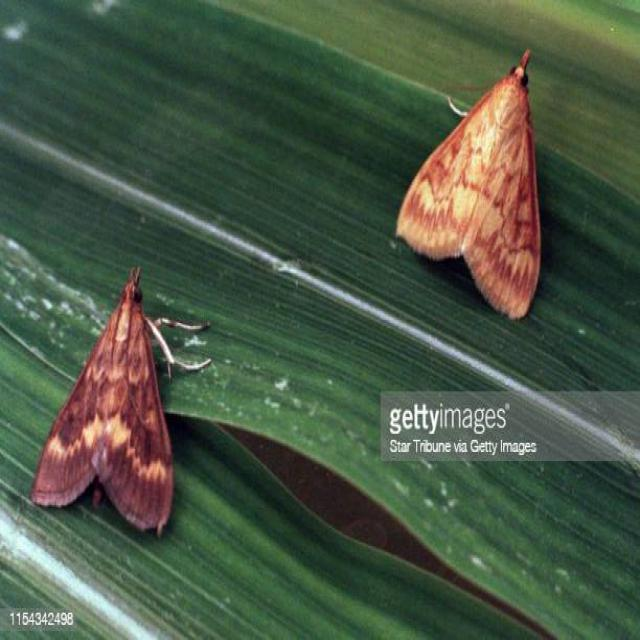cornborer-Adult-: (386, 27, 566, 331), (25, 251, 198, 545)
